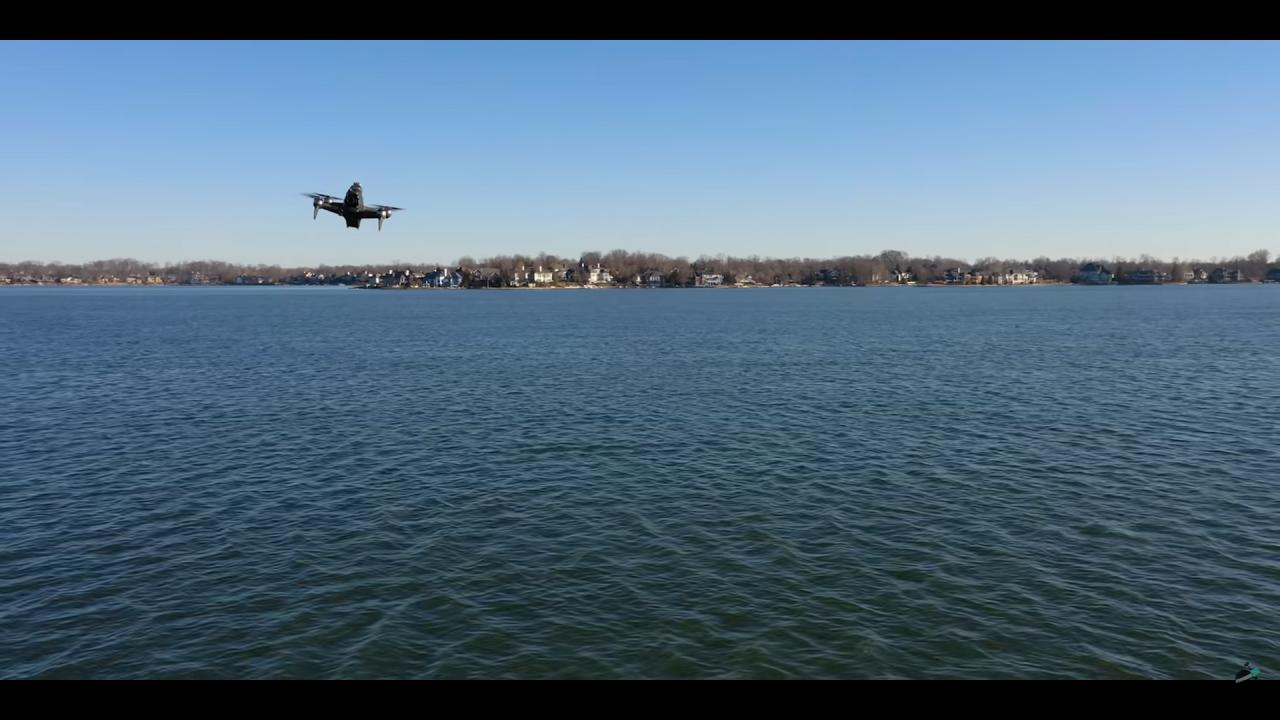Drone: (290, 172, 409, 243)
